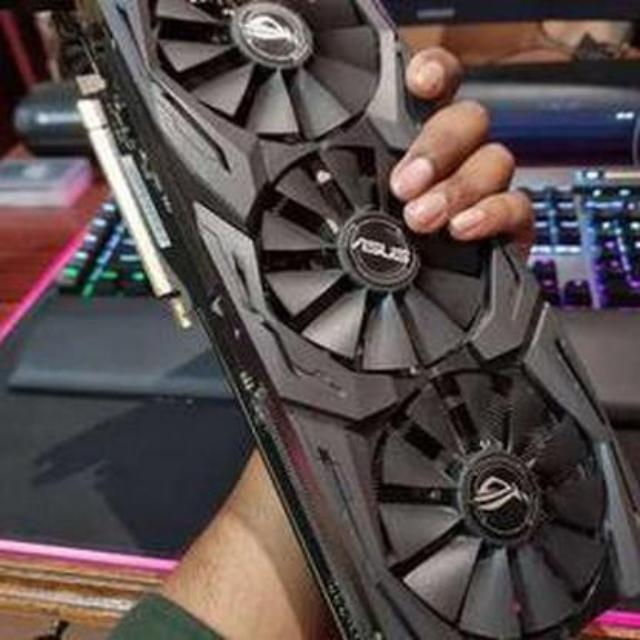GPU: (54, 0, 628, 640)
